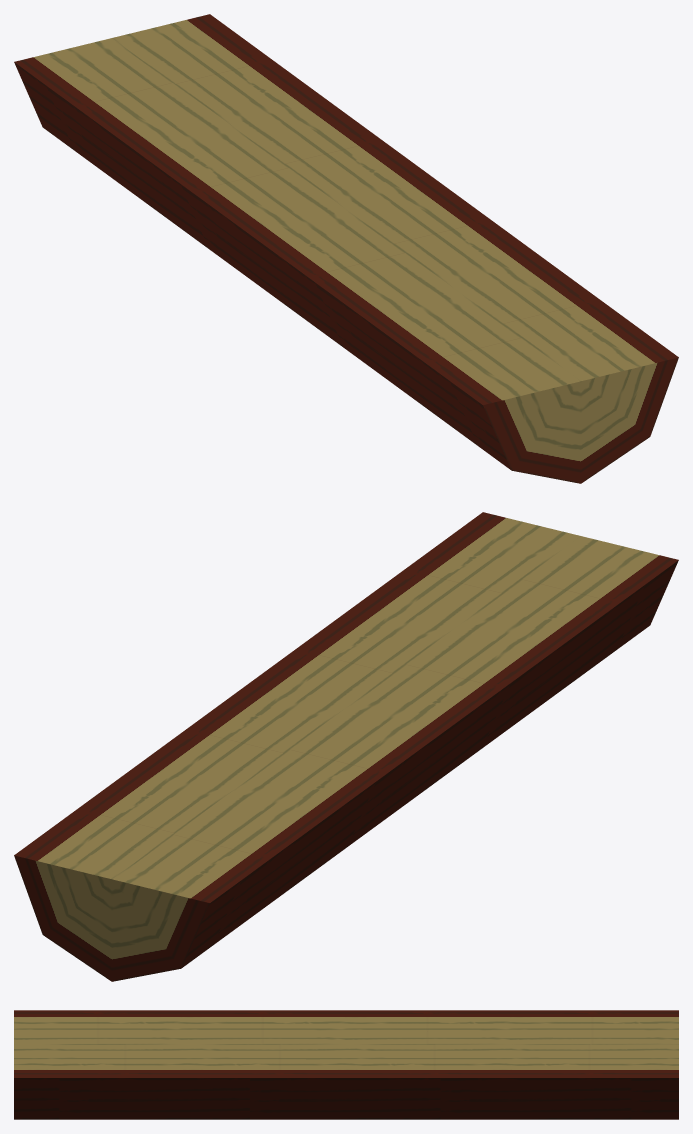
File: Log.fbx
3 renders of one model, top to bottom at view 1: azimuth 30°, elevation 25°; view 2: azimuth 150°, elevation 25°; view 3: azimuth 270°, elevation 25°, orthographic. The views are drawn at different scales.
Visible parts, largest first — view 1: Cylinder.003; view 2: Cylinder.003; view 3: Cylinder.003.
Boxes of the visible parts, <box> form: Cylinder.003: <box>14,14,678,483</box>; Cylinder.003: <box>14,512,678,981</box>; Cylinder.003: <box>14,1010,678,1119</box>.
Size of the model in its own units: 1 by 0.5 by 4.15.
